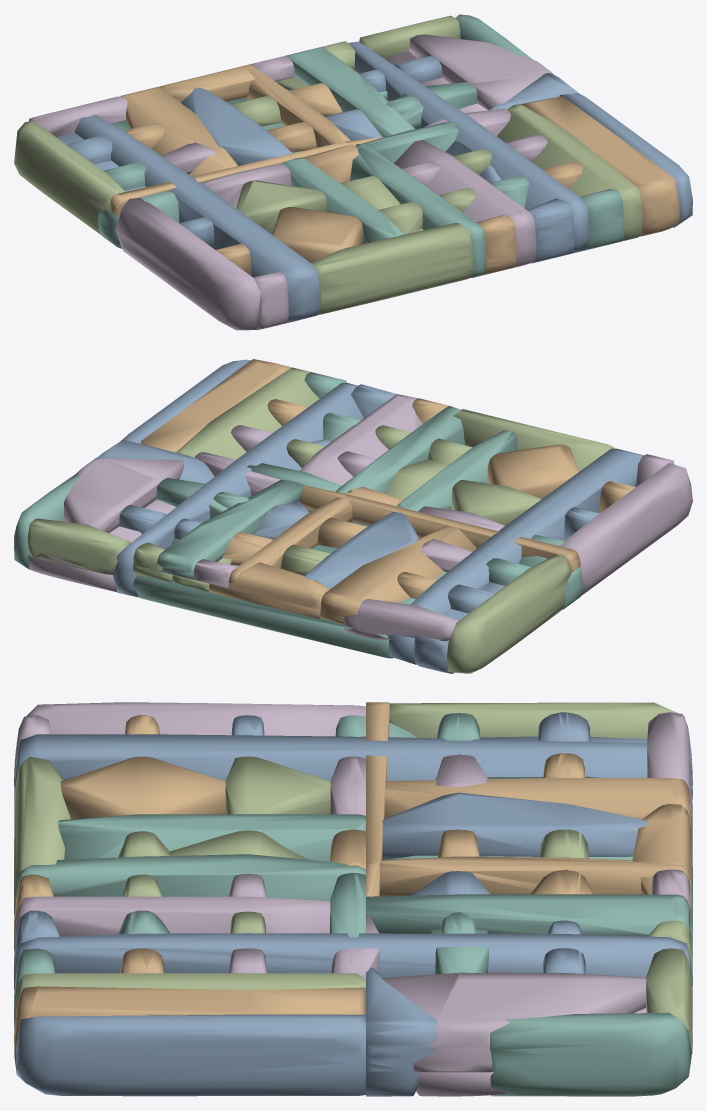
3 renders of one model, top to bottom at view 1: azimuth 30°, elevation 25°; view 2: azimuth 150°, elevation 25°; view 3: azimuth 270°, elevation 25°, orthographic. The views are drawn at different scales.
Size of the model in its own units: 1.58 by 0.1683 by 1.36.
